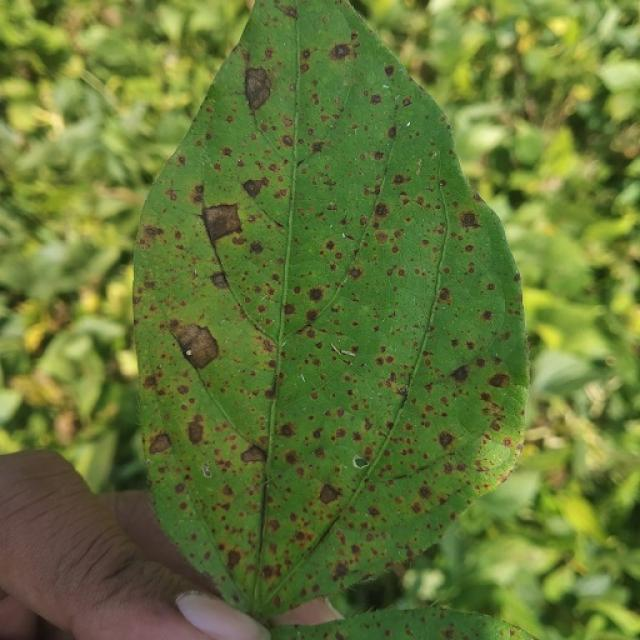Anthracnose: (175, 323, 219, 369), (240, 59, 274, 117), (200, 202, 243, 244), (317, 482, 343, 505), (186, 415, 205, 445), (242, 177, 268, 198), (148, 433, 172, 455), (240, 444, 266, 464), (459, 211, 481, 229), (330, 343, 356, 358), (487, 372, 509, 389), (450, 364, 469, 383), (210, 272, 229, 289), (226, 549, 242, 569), (438, 431, 455, 449), (141, 373, 159, 390), (332, 43, 351, 59), (436, 286, 452, 304), (333, 562, 349, 579), (143, 224, 162, 238), (281, 5, 298, 20), (190, 184, 205, 201), (308, 287, 324, 302), (278, 422, 294, 437), (352, 455, 368, 469), (374, 203, 389, 217), (284, 450, 298, 465), (442, 625, 456, 639), (164, 188, 178, 202), (310, 141, 325, 154), (201, 462, 213, 478), (392, 173, 408, 185), (375, 231, 389, 244), (397, 384, 409, 399), (305, 309, 318, 322), (283, 303, 296, 316), (221, 484, 234, 497), (419, 485, 431, 499), (369, 93, 382, 105), (348, 267, 361, 279), (387, 126, 398, 139), (367, 506, 380, 517), (312, 427, 323, 440), (384, 65, 395, 77), (221, 146, 233, 157), (481, 310, 493, 321), (301, 48, 311, 60), (176, 385, 188, 395), (402, 96, 412, 107), (325, 240, 335, 250), (300, 63, 310, 73), (185, 348, 193, 357)
Blackgram: (129, 0, 531, 634)
